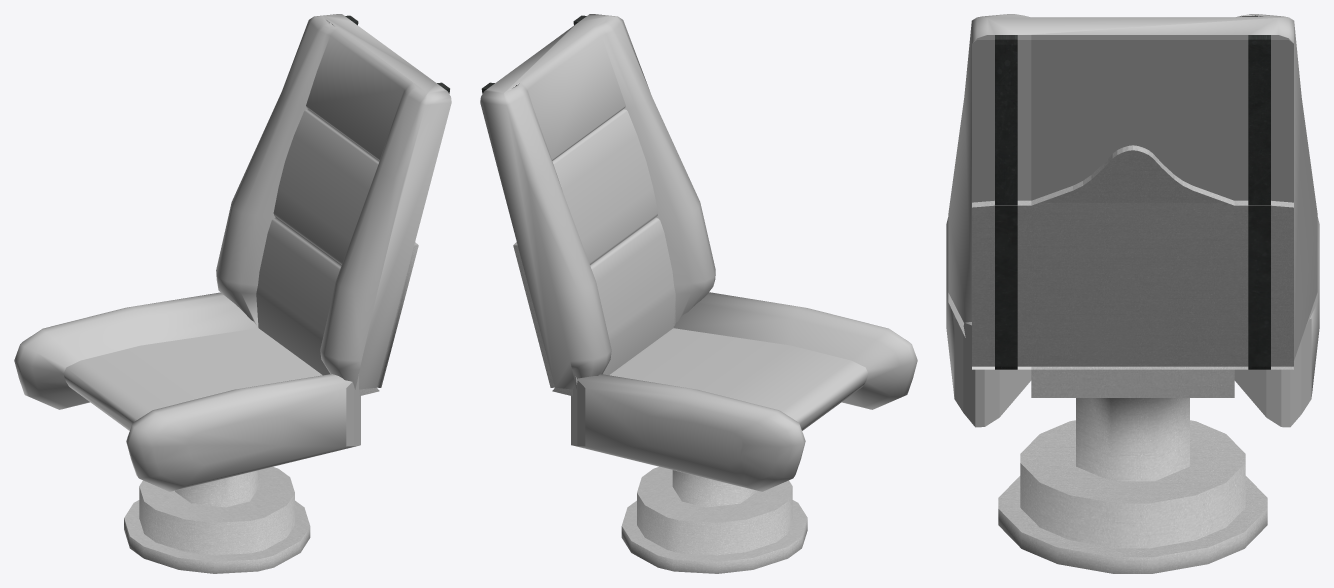
Rendered from CrewBridgeChair.fbx.
The picture shows the model from 3 angles, left to right: view 1: azimuth 30°, elevation 25°; view 2: azimuth 150°, elevation 25°; view 3: azimuth 270°, elevation 25°; orthographic projection. The views are drawn at different scales.
Parts seen in each view (by area): view 1: Cube.005; view 2: Cube.005; view 3: Cube.005.
Boxes of the visible parts, bbox=[...] form: Cube.005: bbox=[14, 14, 451, 573]; Cube.005: bbox=[480, 14, 917, 573]; Cube.005: bbox=[946, 14, 1319, 573].
Bounding box in the file's own units: 341 × 437 × 243.
